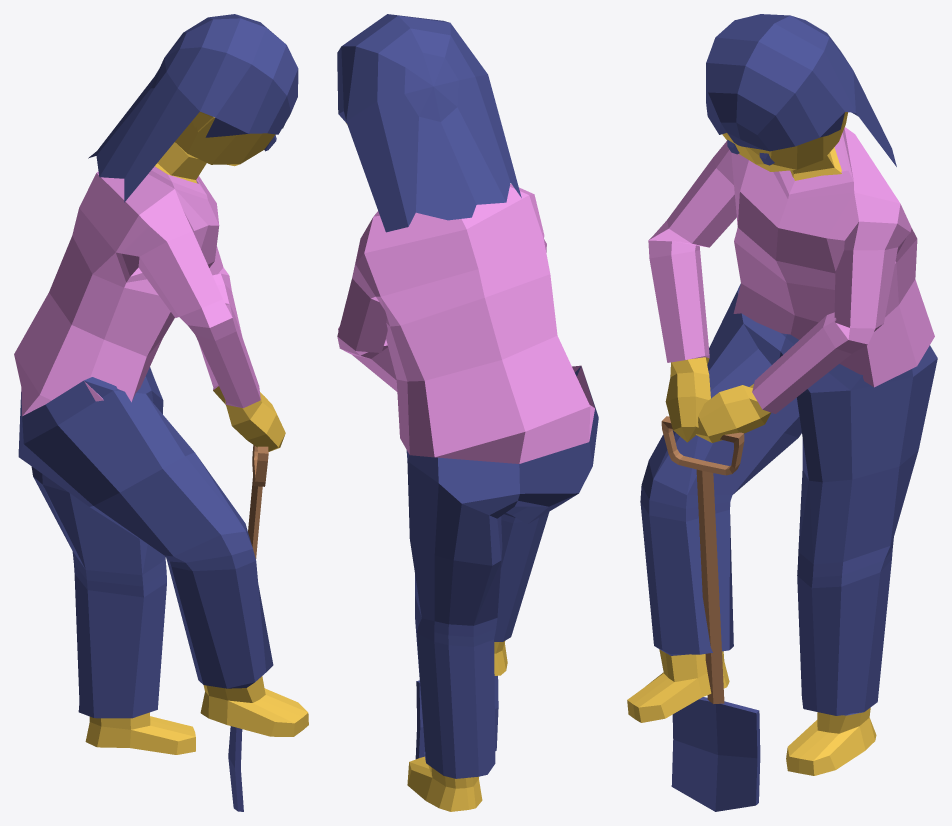
The model's file is 110_スコップで掘る(Woman).glb.
The picture shows the model from 3 angles, left to right: view 1: azimuth 30°, elevation 25°; view 2: azimuth 150°, elevation 25°; view 3: azimuth 270°, elevation 25°; orthographic projection. The views are drawn at different scales.
Parts seen in each view (by area): view 1: 立方体025_2, 立方体025_4, 立方体025, 立方体025_1, 立方体025_3, 立方体025_6, 立方体025_5; view 2: 立方体025_4, 立方体025_2, 立方体025, 立方体025_1, 立方体025_5; view 3: 立方体025_2, 立方体025_4, 立方体025, 立方体025_1, 立方体025_5, 立方体025_3, 立方体025_6.
Boxes of the visible parts, left/top/right/bottom form: 立方体025_2: left=18, top=367, right=273, bottom=718; 立方体025_4: left=14, top=166, right=260, bottom=416; 立方体025: left=88, top=14, right=298, bottom=202; 立方体025_1: left=85, top=111, right=308, bottom=754; 立方体025_3: left=213, top=386, right=285, bottom=451; 立方体025_6: left=248, top=445, right=268, bottom=558; 立方体025_5: left=228, top=726, right=243, bottom=811; 立方体025_4: left=337, top=183, right=594, bottom=463; 立方体025_2: left=406, top=366, right=598, bottom=778; 立方体025: left=337, top=14, right=521, bottom=232; 立方体025_1: left=346, top=123, right=507, bottom=811; 立方体025_5: left=415, top=676, right=498, bottom=759; 立方体025_2: left=640, top=283, right=937, bottom=715; 立方体025_4: left=648, top=127, right=934, bottom=413; 立方体025: left=706, top=14, right=896, bottom=166; 立方体025_1: left=627, top=112, right=876, bottom=775; 立方体025_5: left=671, top=697, right=760, bottom=811; 立方体025_3: left=665, top=357, right=770, bottom=442; 立方体025_6: left=661, top=416, right=744, bottom=703.
Bounding box in the file's own units: 0.7136 × 2.02 × 0.7082.
